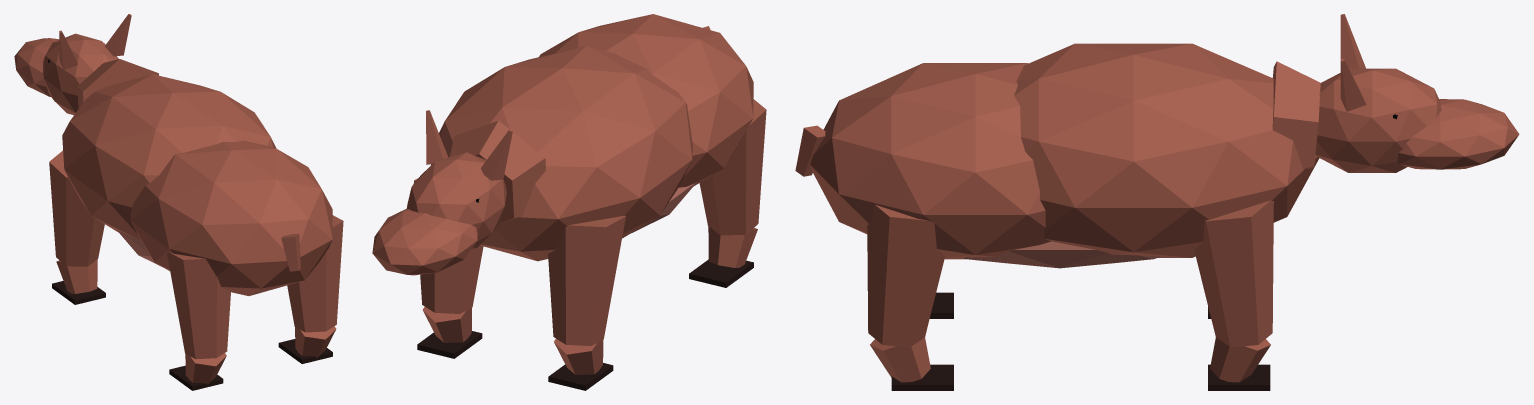
Rendered from animal_pig.fbx.
3 renders of one model, left to right at view 1: azimuth 30°, elevation 25°; view 2: azimuth 150°, elevation 25°; view 3: azimuth 270°, elevation 25°, orthographic. The views are drawn at different scales.
Visible parts, largest first — view 1: animal_pig; view 2: animal_pig; view 3: animal_pig.
Part boxes in pixels (box(x1,y1,x2,y2)): animal_pig: box(14, 14, 343, 390); animal_pig: box(372, 14, 766, 390); animal_pig: box(795, 14, 1519, 390).
Size of the model in its own units: 0.5897 by 0.7424 by 1.58.
